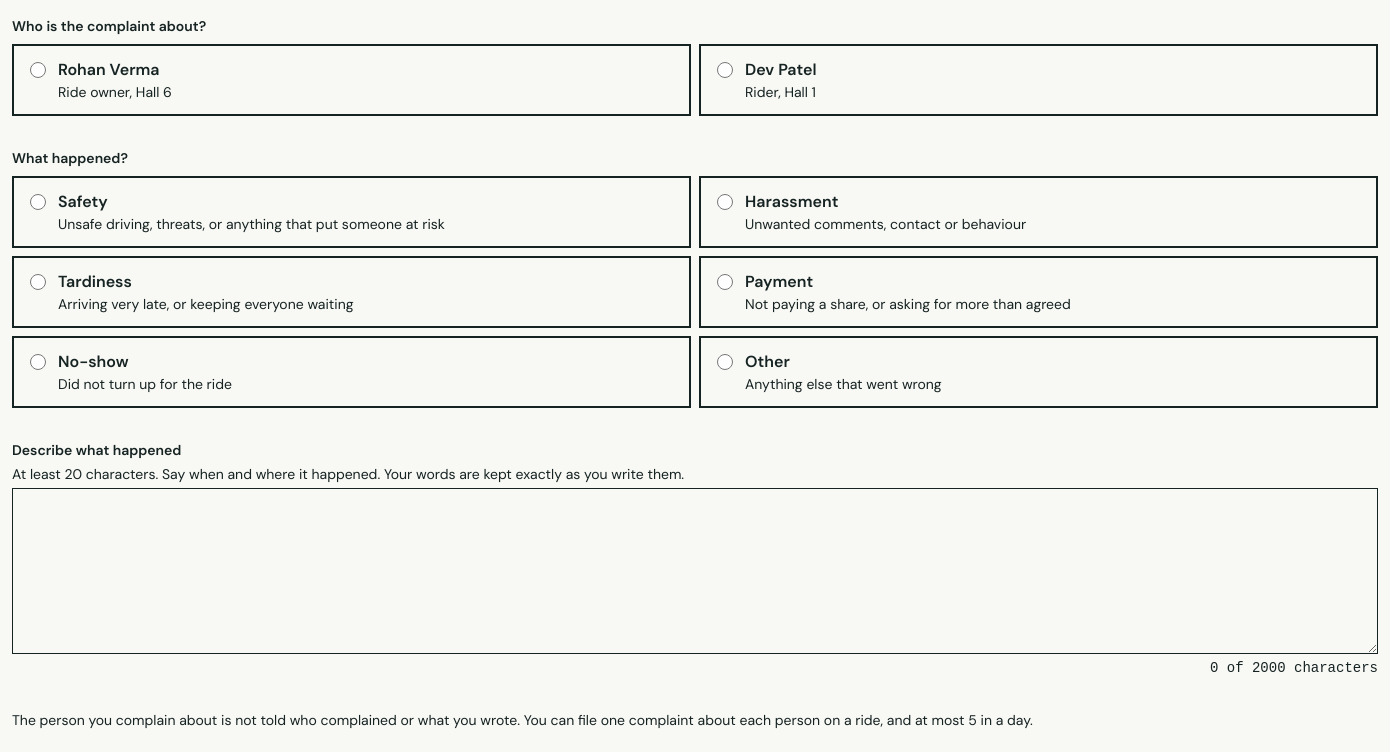
Scenario: ComplaintForm (FR-RD-13.1 to 13.6, CS455-53) › sends someone whose session ended to sign in, and says when the connection failed
The width and height of the screenshot is (1390, 752).
Click the radio button labelled "Rohan Verma Ride owner, Hall 6" at (38, 70), box [30,62,46,78]
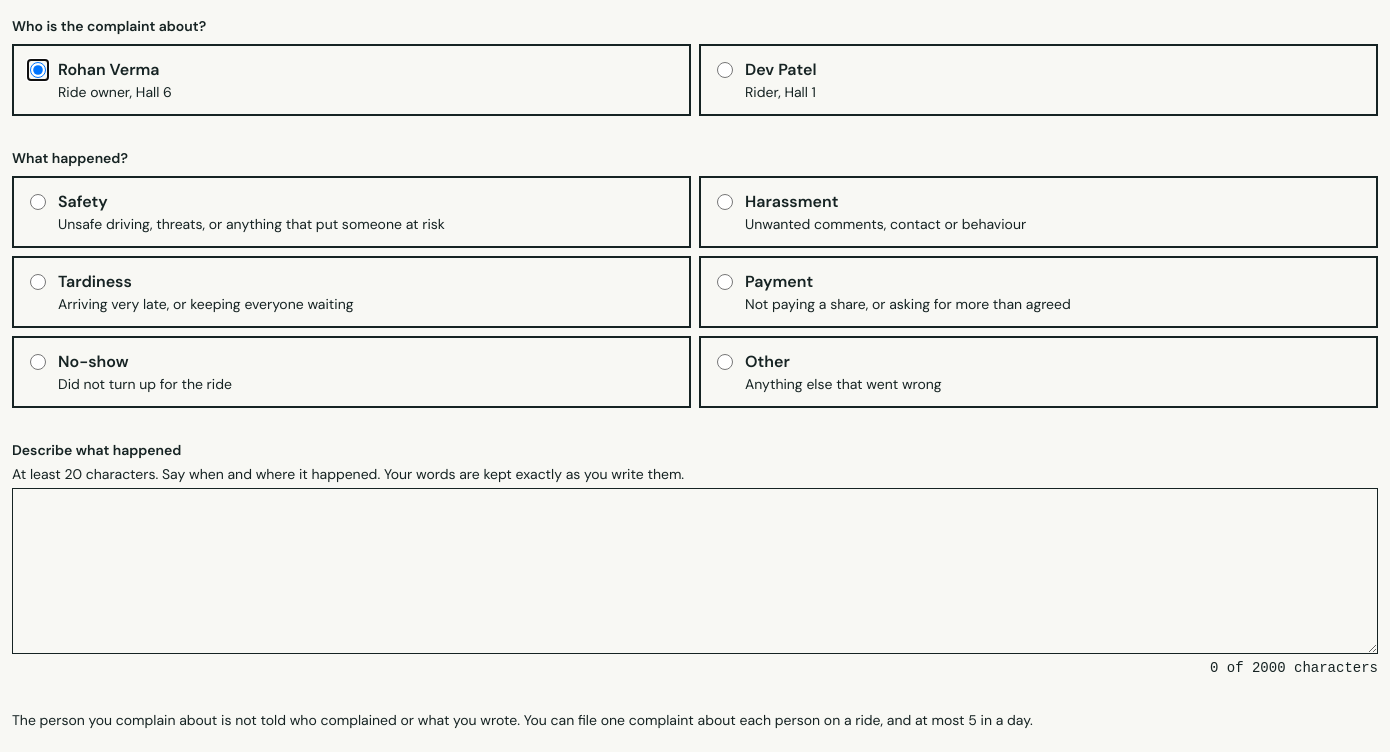
Click the radio button labelled "Tardiness Arriving very late, or keeping everyone waiting" at (38, 282), box [30,274,46,290]
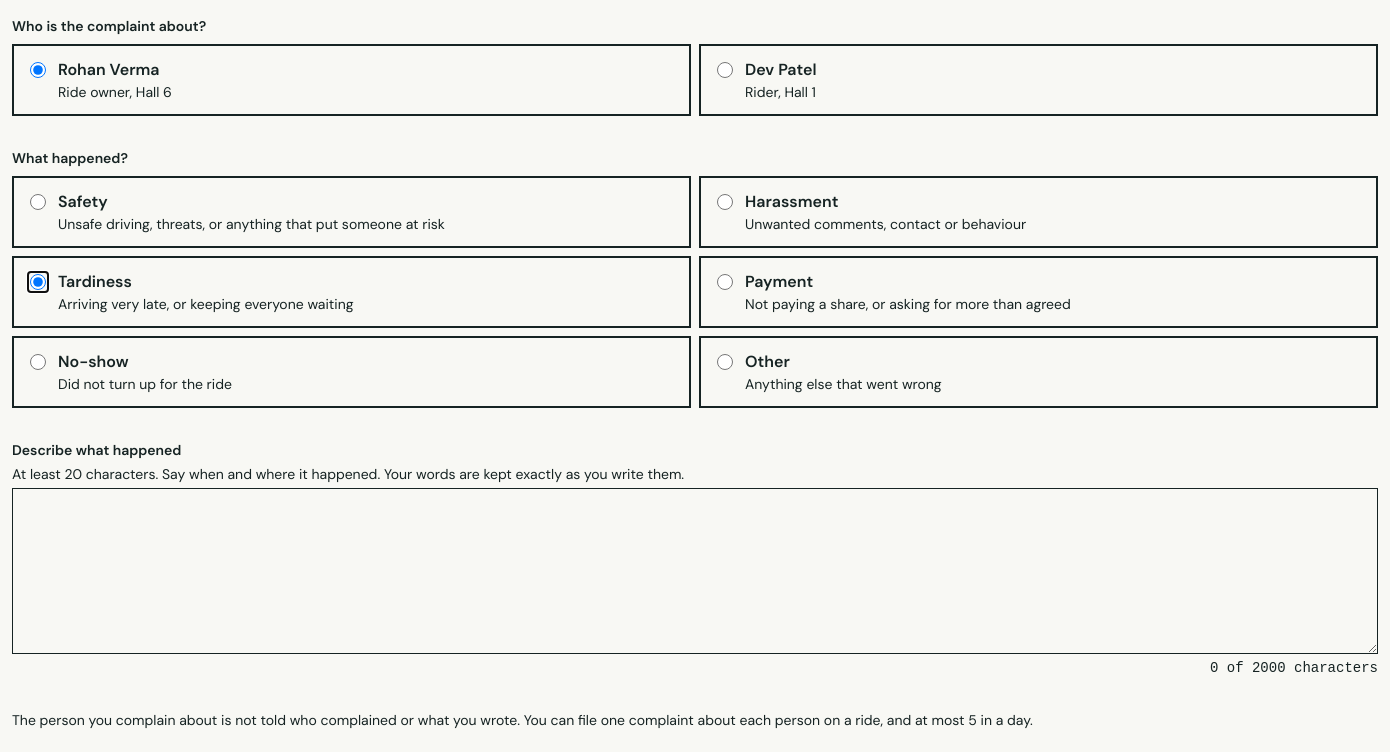
Type "Arrived 25 minutes late to the pickup point." into the text box labelled "Describe what happened" at (695, 571), box [12,488,1378,654]
(page scrolled)
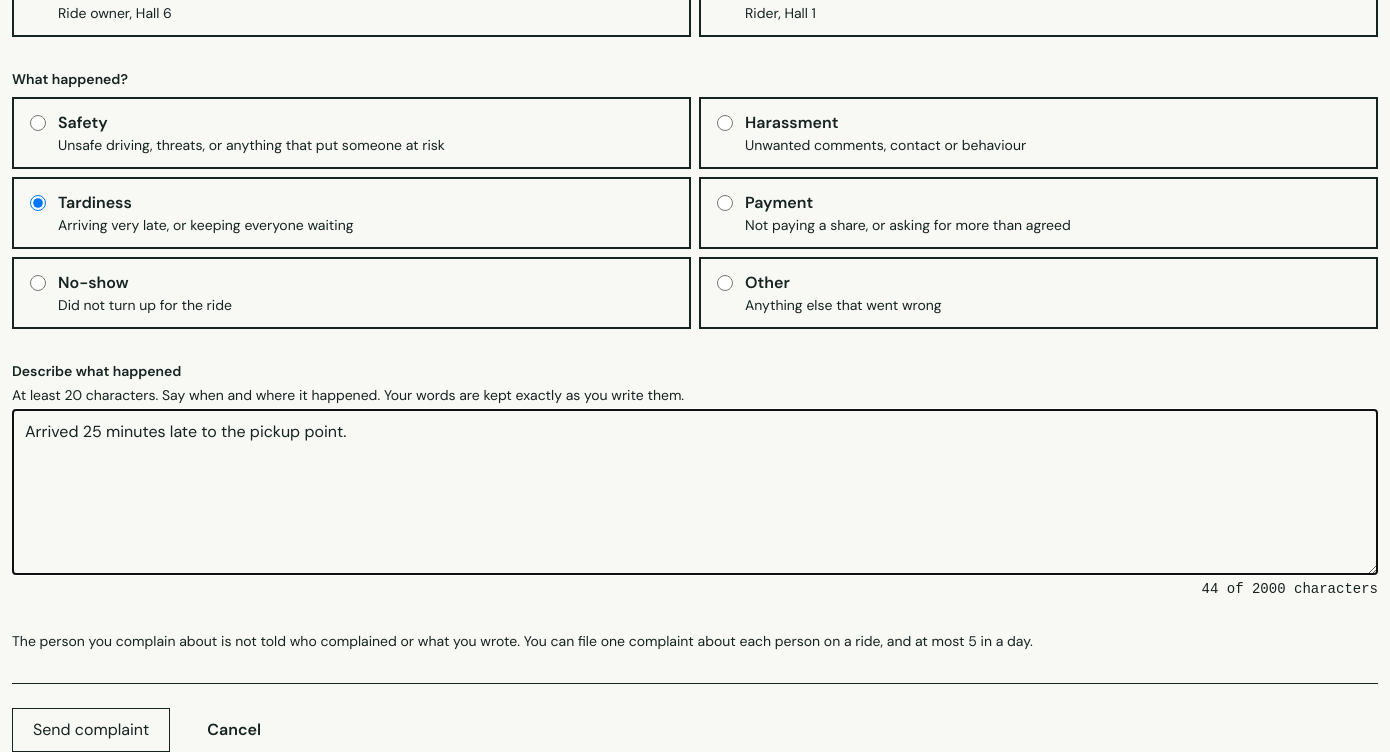
Click the button "Send complaint" at (91, 730), box [12,708,170,751]
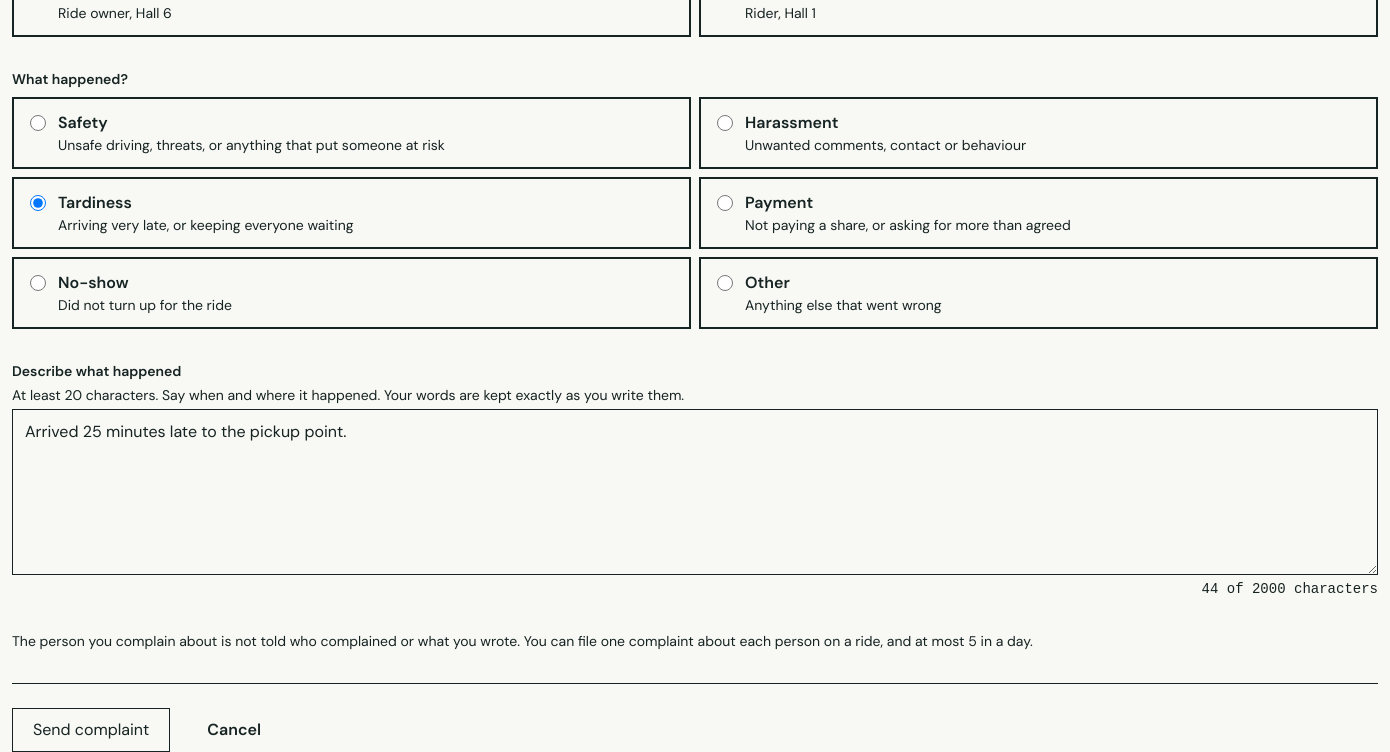
Click the button "Send complaint" at (91, 730), box [12,708,170,751]
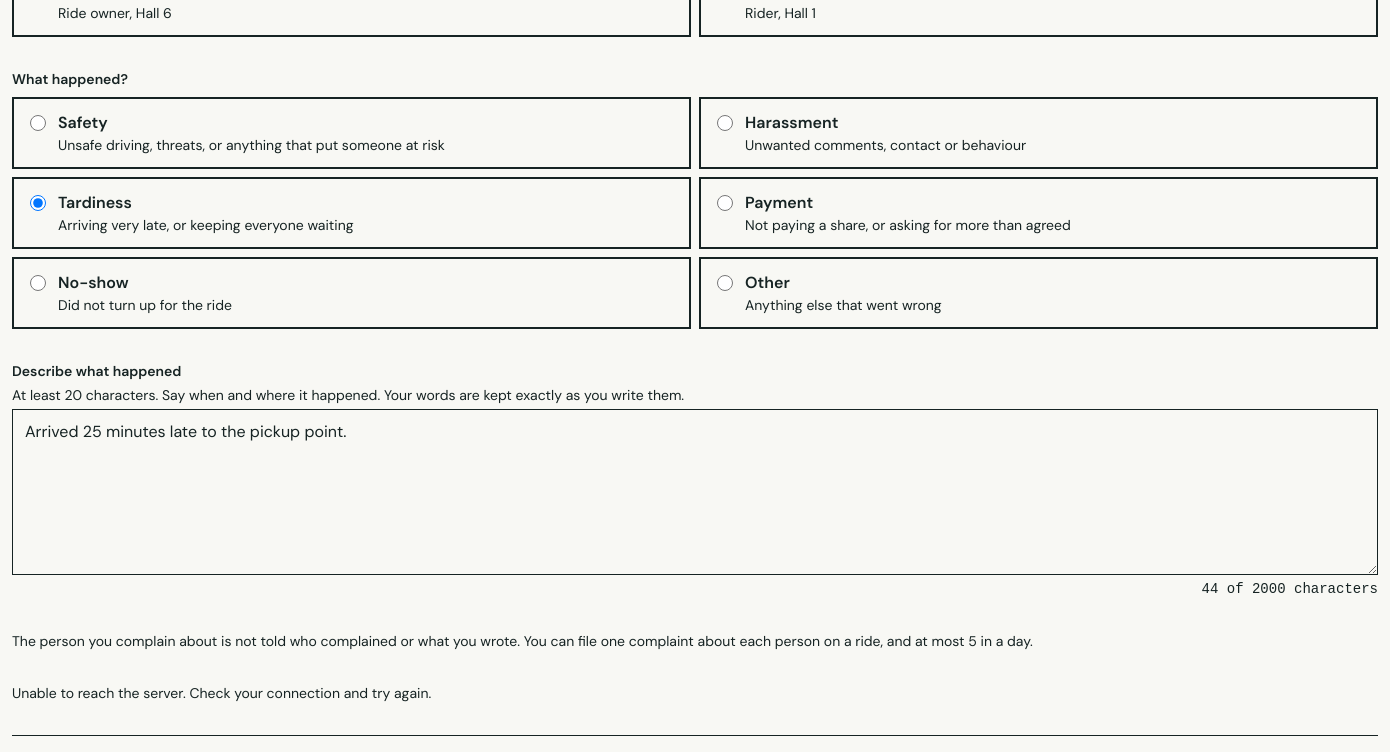
Check: the message shows "Unable to reach the server", box [12,684,431,702]
